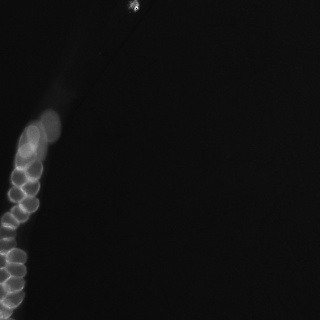embryo: (27, 121, 47, 162), (40, 109, 61, 143), (18, 126, 40, 158), (14, 142, 36, 171), (0, 290, 24, 310), (5, 248, 26, 268), (0, 211, 20, 230), (10, 204, 30, 223), (10, 168, 29, 186), (4, 276, 24, 293), (5, 262, 26, 277), (19, 197, 38, 212), (21, 181, 39, 196), (8, 186, 23, 203), (27, 162, 42, 179)
